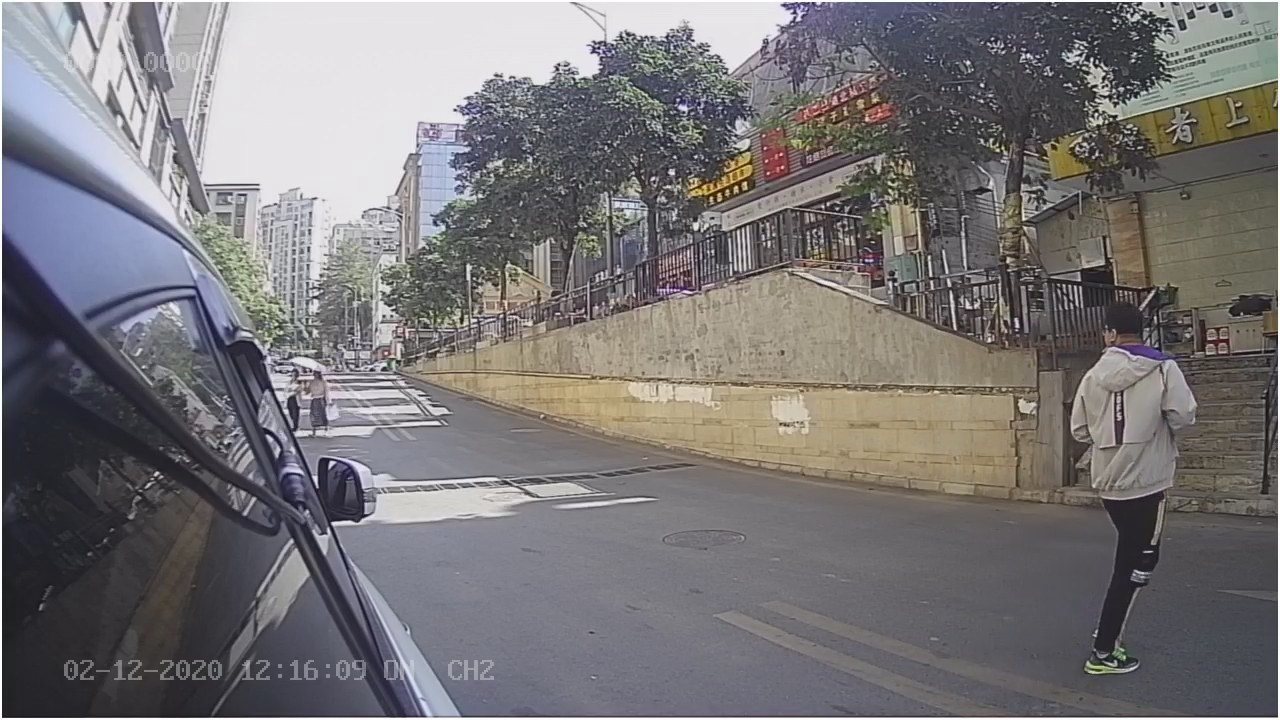person: (1065, 298, 1202, 684)
